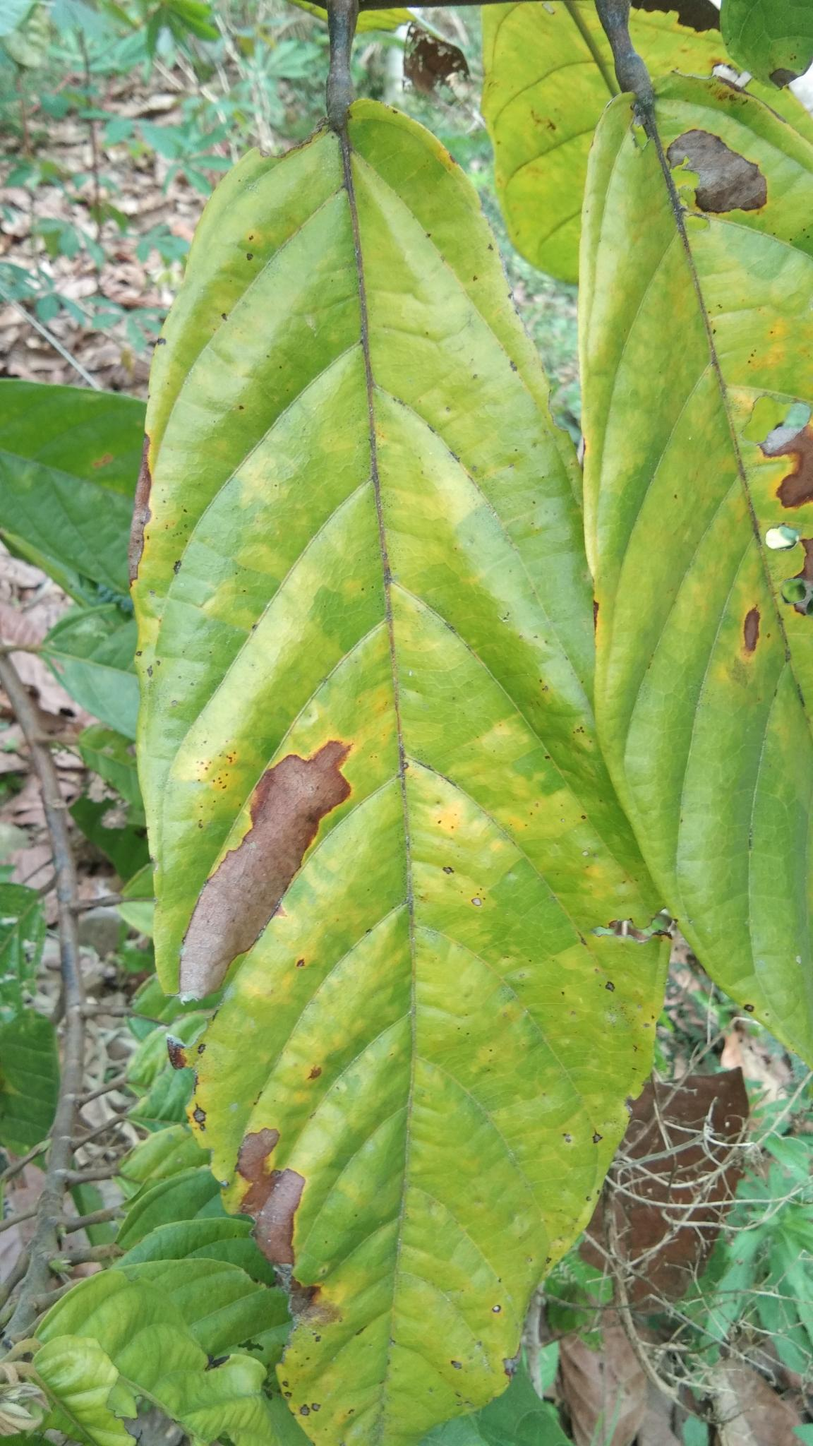Fosforo: (133, 67, 671, 1446)
